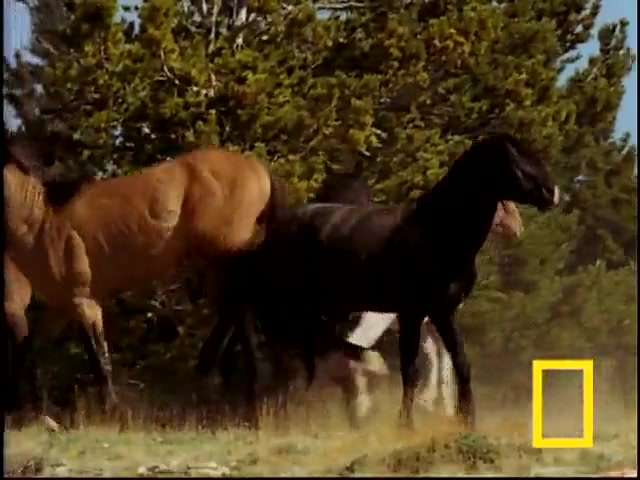horse: (208, 130, 564, 437)
